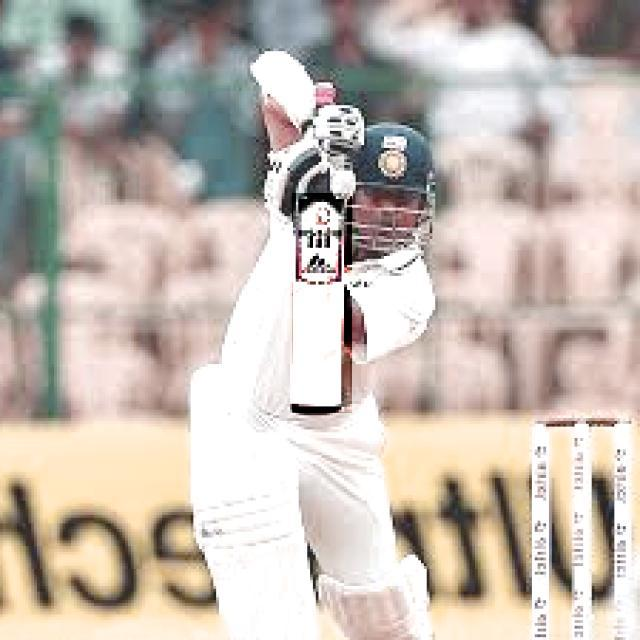bat: (287, 193, 347, 410)
toe: (278, 398, 358, 427)
